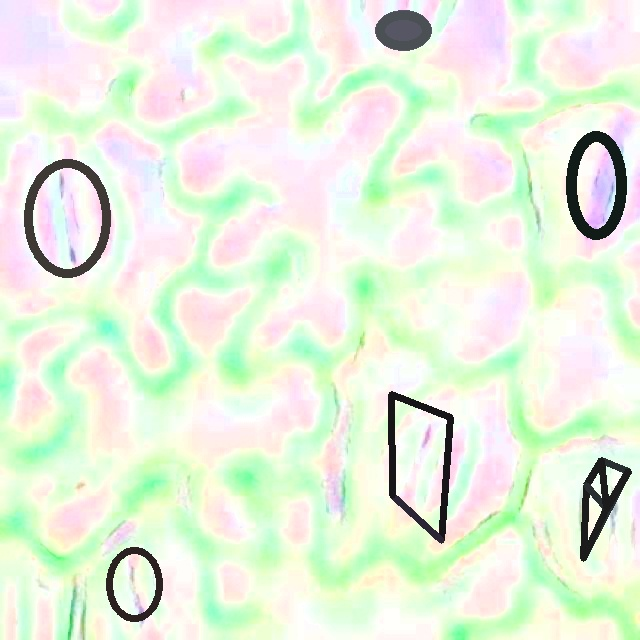close: (390, 391, 453, 542), (583, 457, 630, 560), (105, 546, 163, 622)
open: (23, 158, 110, 278), (566, 131, 625, 239), (374, 10, 432, 49)
